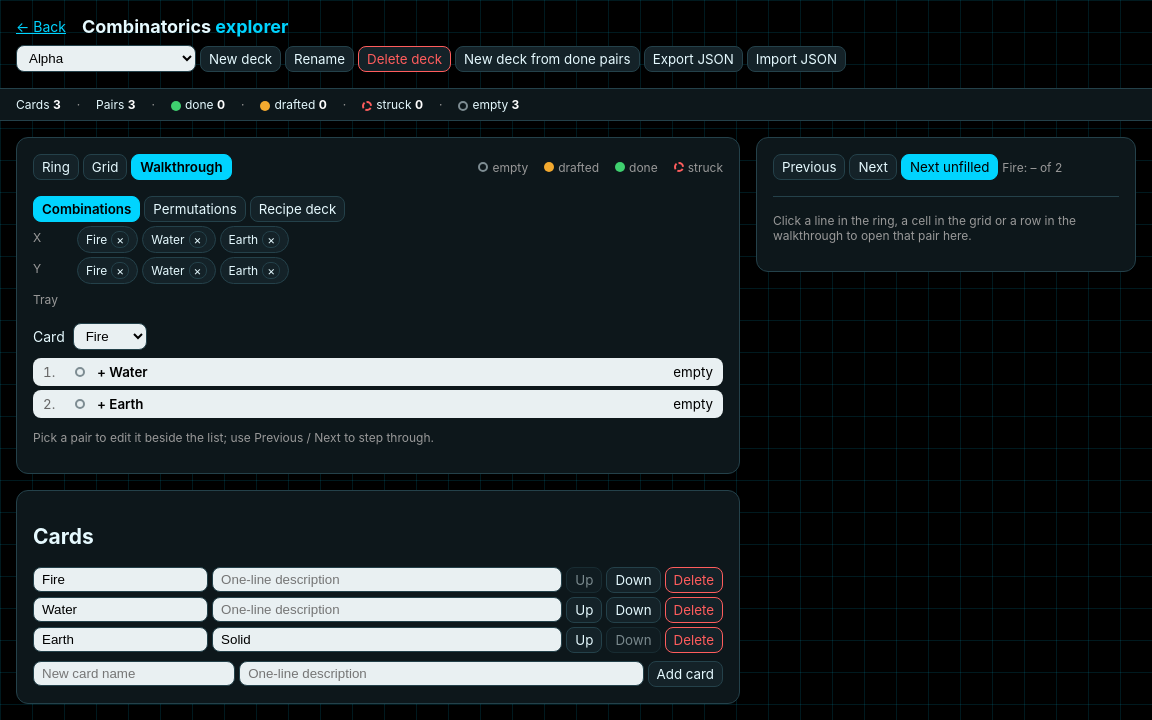
CombinationsPage walkthrough › closes an open pair that does not involve the new walk card
The width and height of the screenshot is (1152, 720).
Click the button "1. + Water empty": (122, 372) [33,358,723,386]
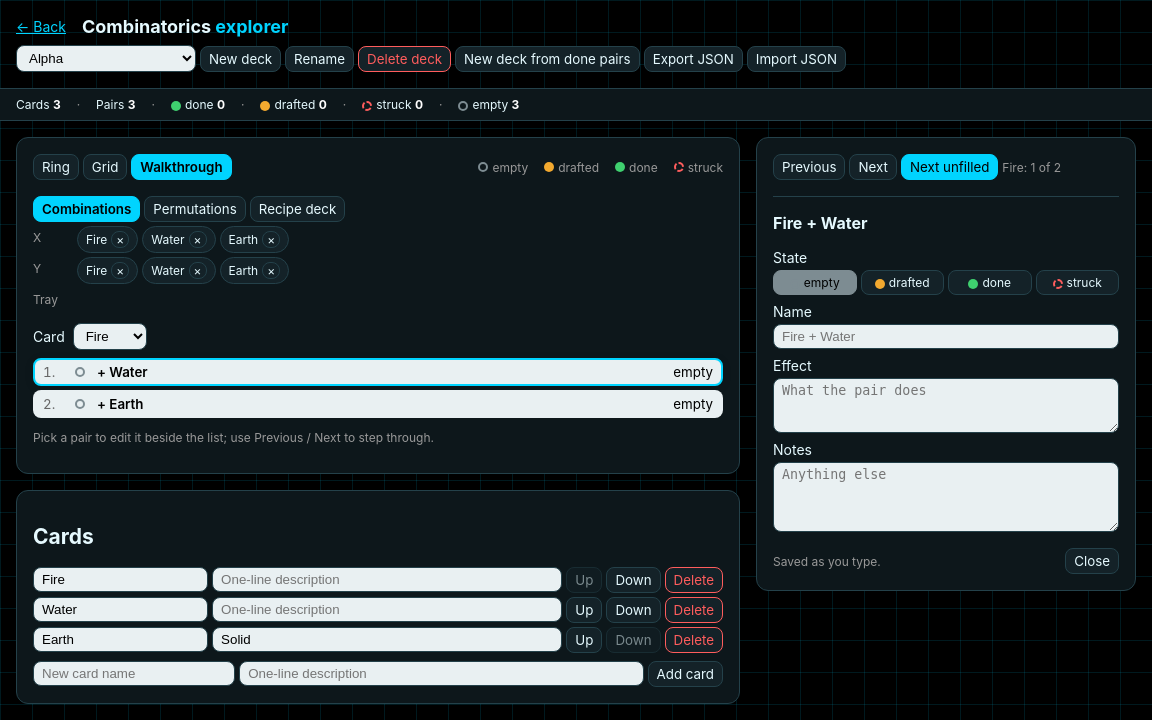
Check: the element that starts with "Fire + Water" is shown, box [773,213,1119,574]
Select "Earth" in the dropdown labelled "Card": (110, 336) [73,323,147,350]
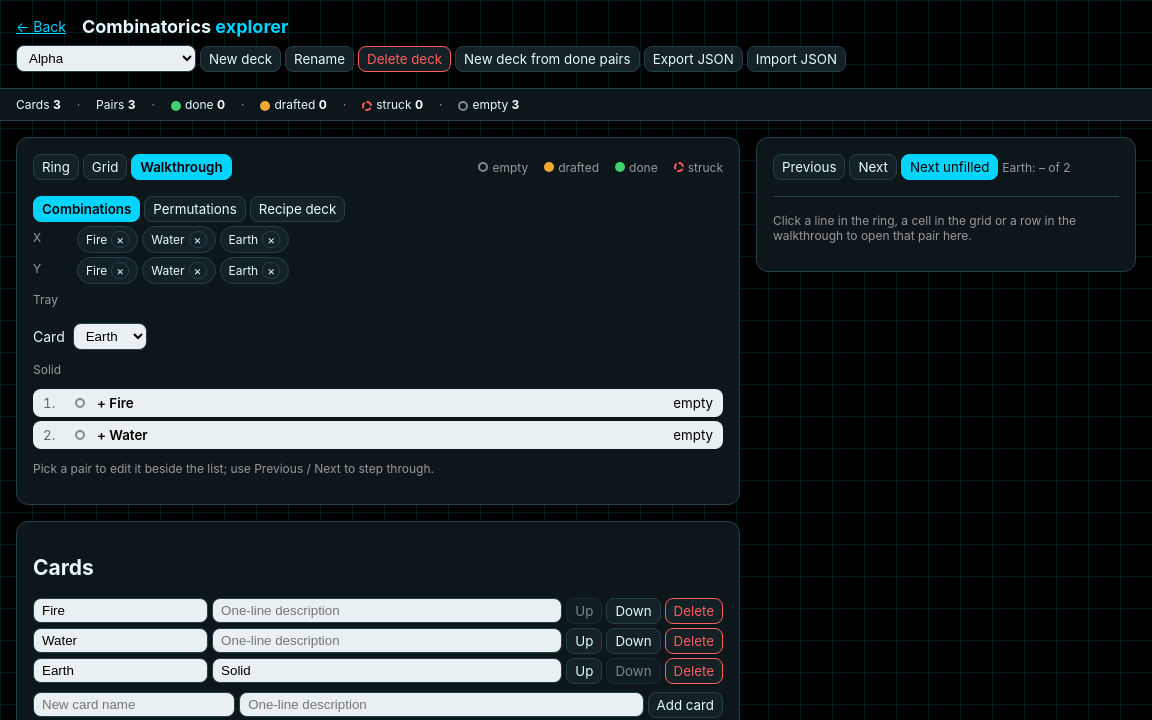
Check: the text "Earth: – of 2" is shown, box [1002,160,1071,174]
Check: the element with class "side" shows "Click a line in the ring", box [773,213,1076,243]
